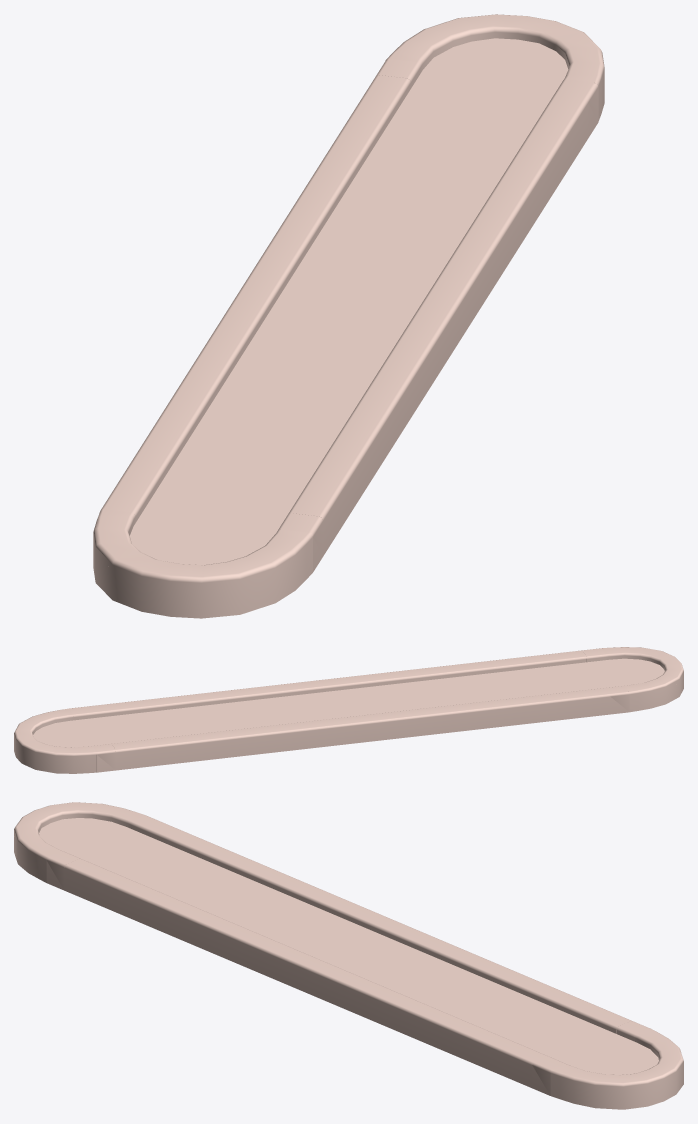
The model's file is Long oval curb.fbx.
3 renders of one model, top to bottom at view 1: azimuth 30°, elevation 25°; view 2: azimuth 150°, elevation 25°; view 3: azimuth 270°, elevation 25°, orthographic. The views are drawn at different scales.
Parts seen in each view (by area): view 1: Double; view 2: Double; view 3: Double.
Part boxes in pixels (x1,y1,x2,y2): Double: [93, 14, 604, 618]; Double: [14, 647, 683, 773]; Double: [14, 802, 683, 1109].
Size of the model in its own units: 709 by 29.94 by 709.
